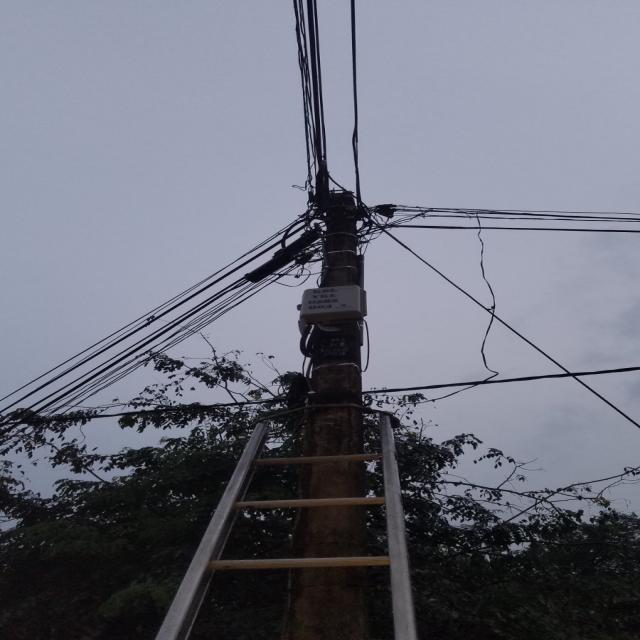light_pole: (276, 191, 386, 640)
